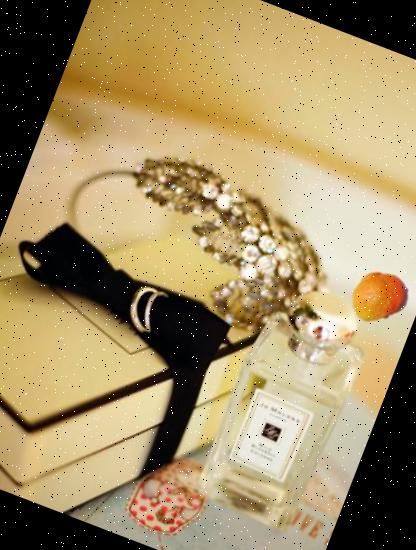Mandarine: (340, 258, 416, 334)
